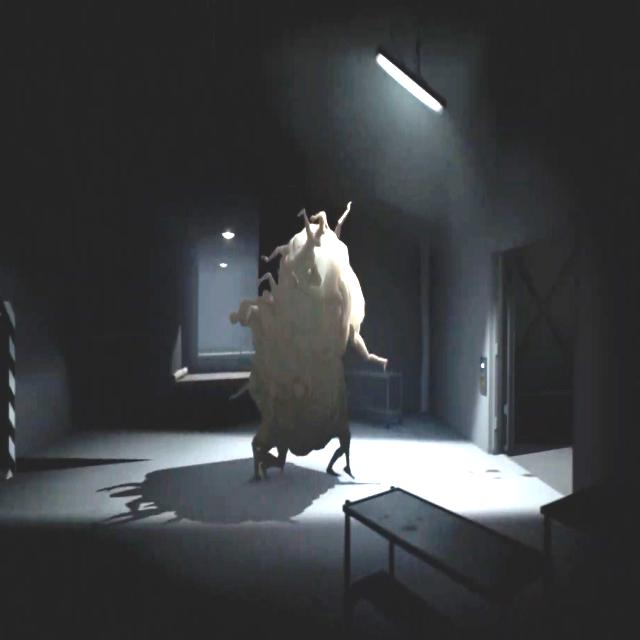blob: (230, 200, 390, 482)
